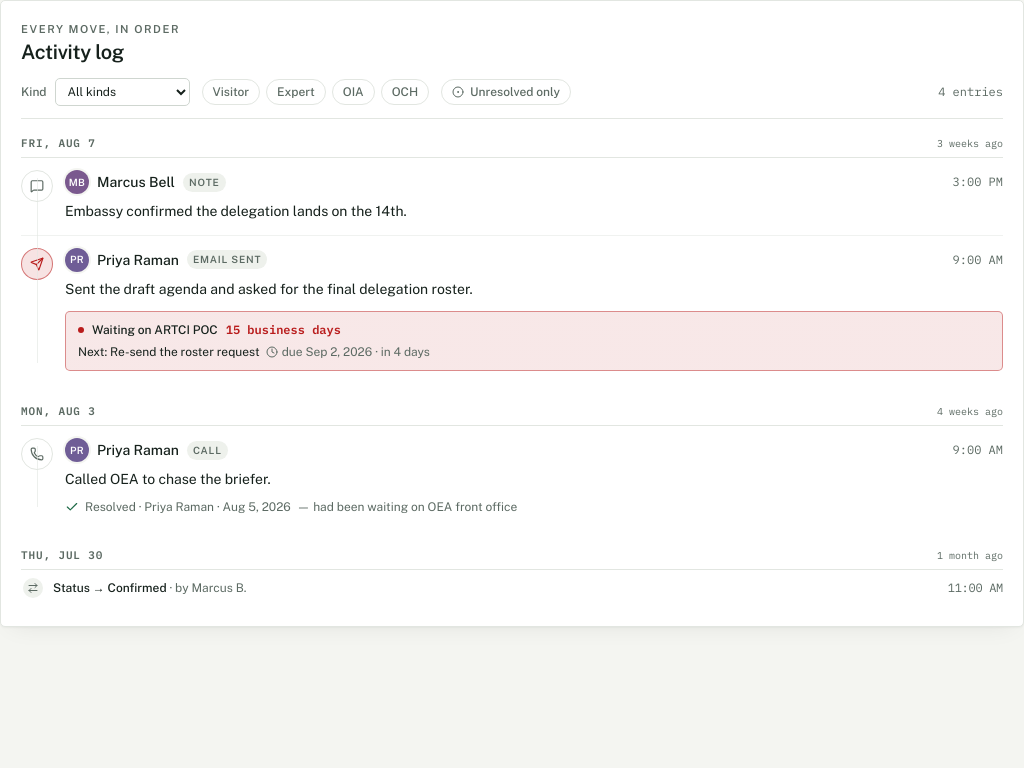
Test case: ActivityTimeline › filters by kind, by who we are waiting on, and down to the unresolved
Expected: the number of list items is 4, [21,158,1003,236]; [21,236,1003,383]; [21,426,1003,527]; [23,578,1003,598]
Select "Call" in the dropdown labelled "Kind" at x=122, y=92, box [55,78,190,106]
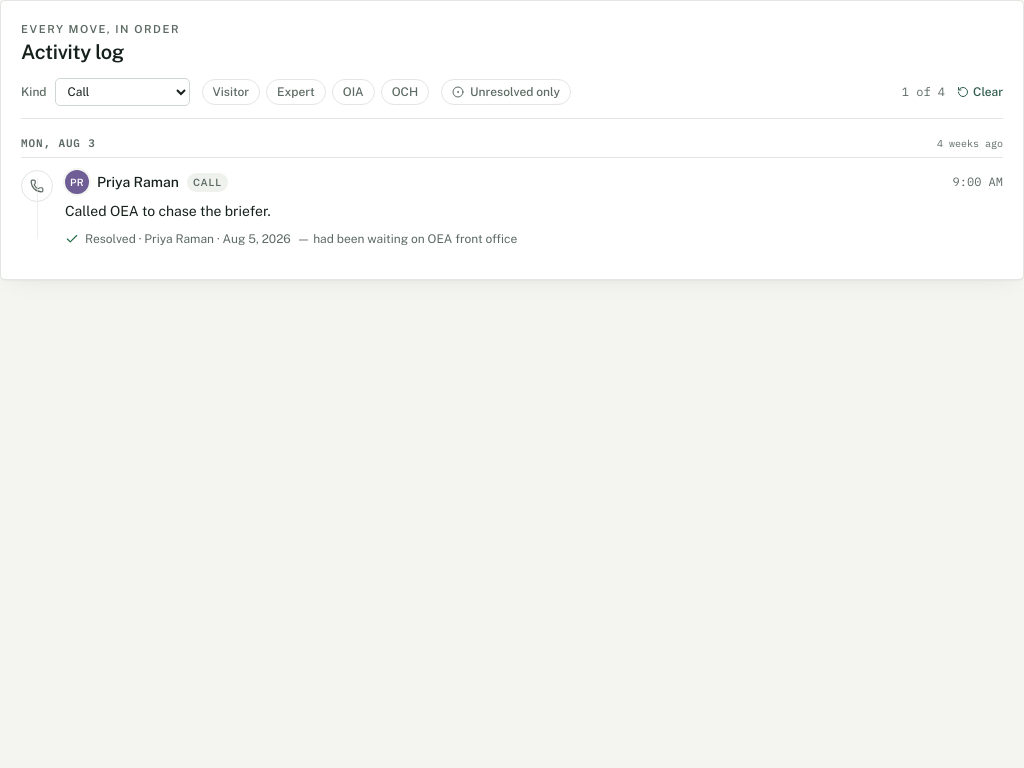
Select "All kinds" in the dropdown labelled "Kind" at x=122, y=92, box [55,78,190,106]
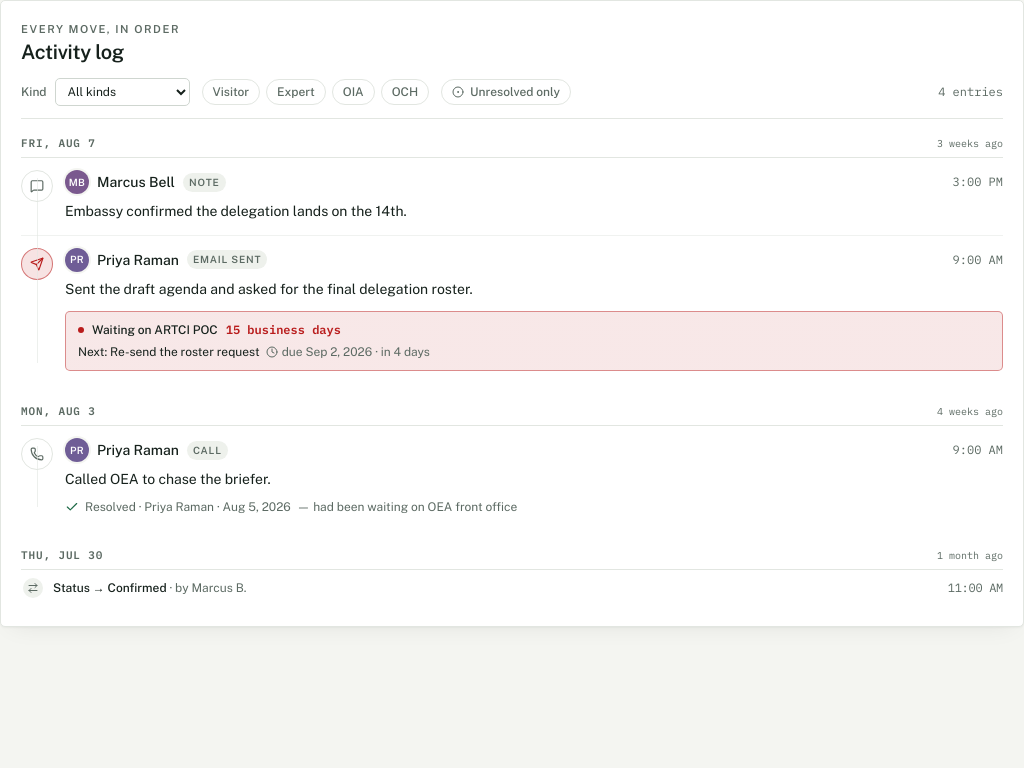
Click the button "Visitor" at x=231, y=92, box [202,78,260,104]
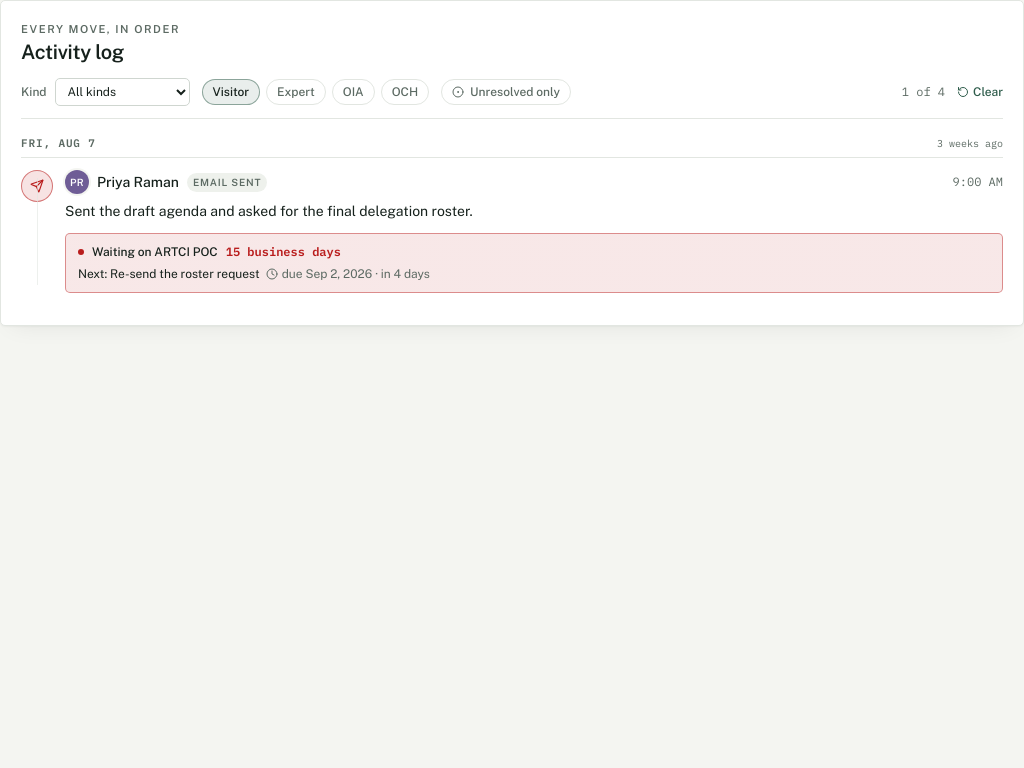
Expected: the button "Visitor" is pressed
Click the button "Visitor" at x=231, y=92, box [202,78,260,104]
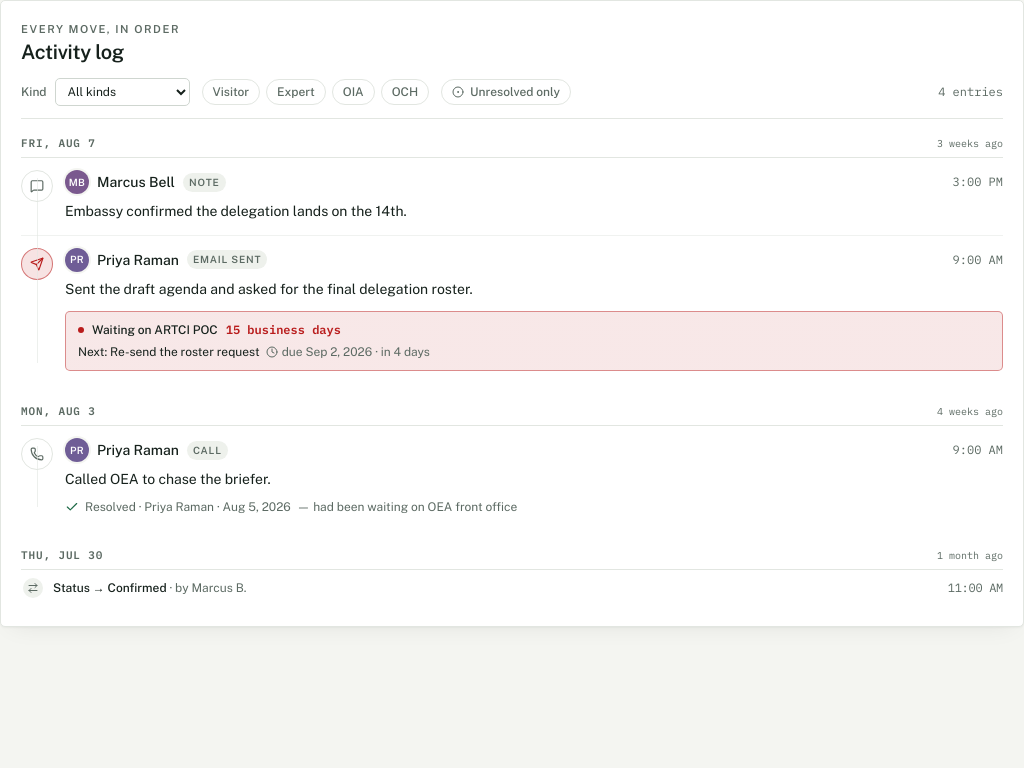
Click the button "Unresolved only" at x=506, y=92, box [441,78,571,104]
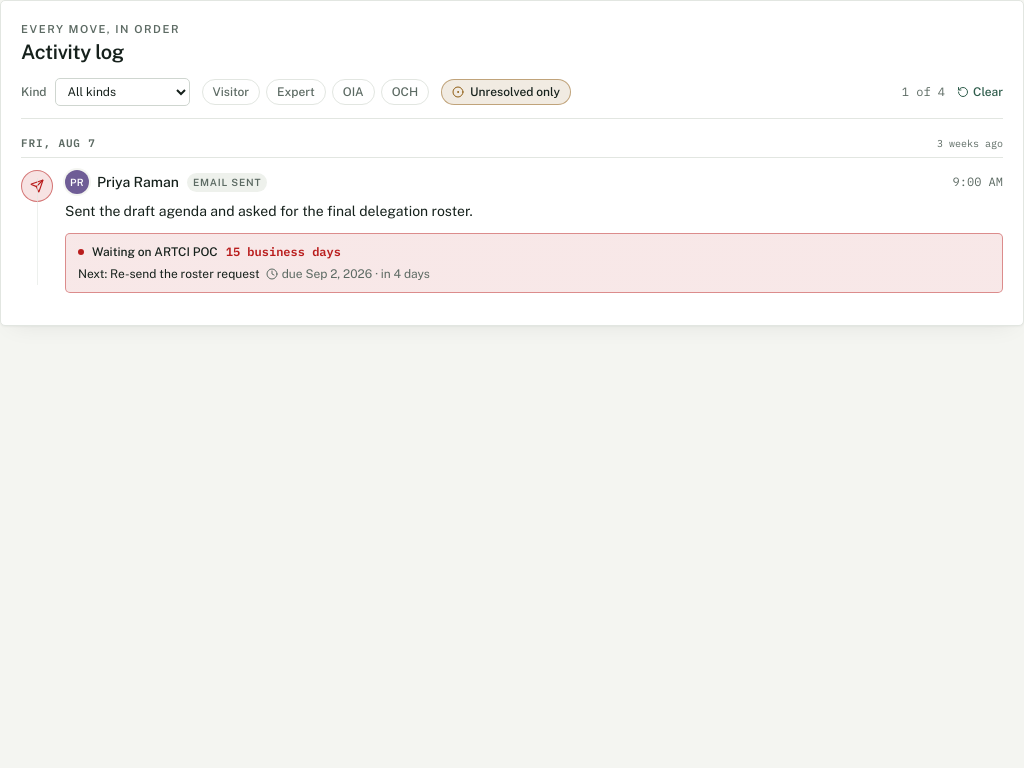
Select "Placed on hold" in the dropdown labelled "Kind" at x=122, y=92, box [55,78,190,106]
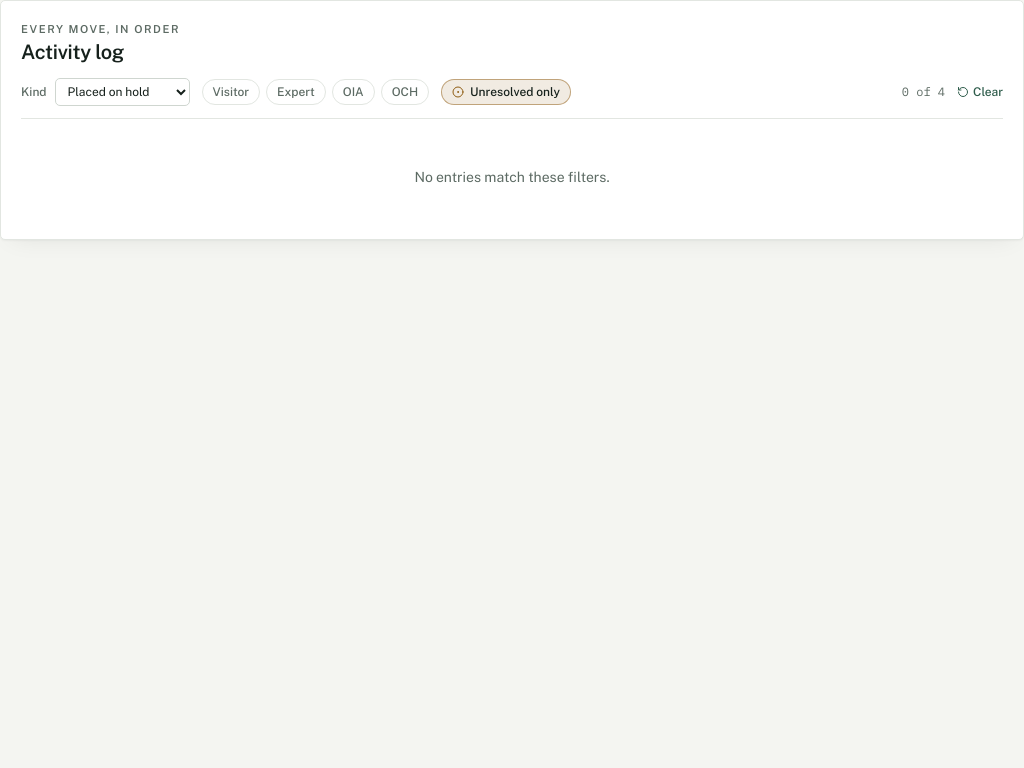
Expected: the text "No entries match these filters." is shown, [414,168,610,184]
